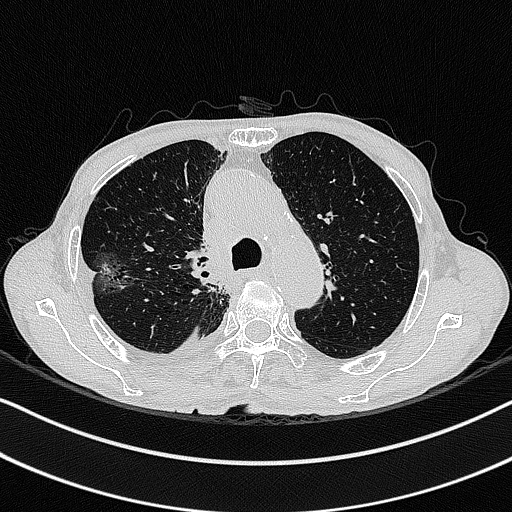nodule: (91, 252, 133, 294)
